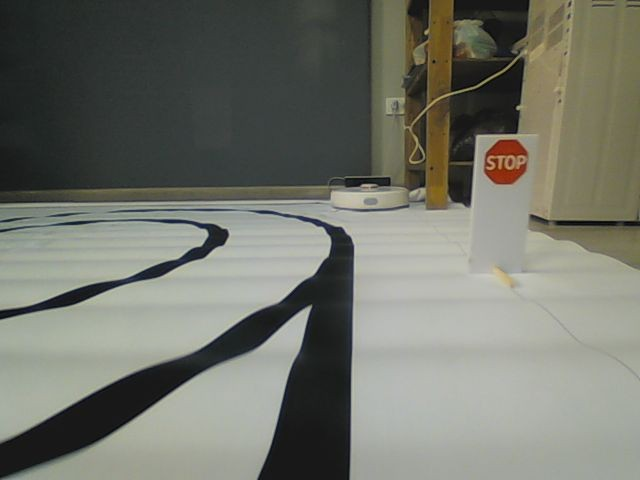Stop: (483, 139, 527, 184)
